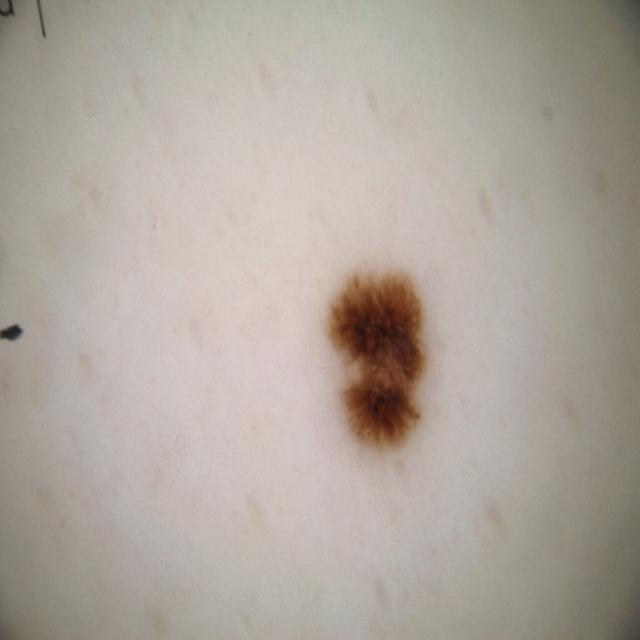Skin-Cancer Melanoma: (238, 102, 602, 555)
